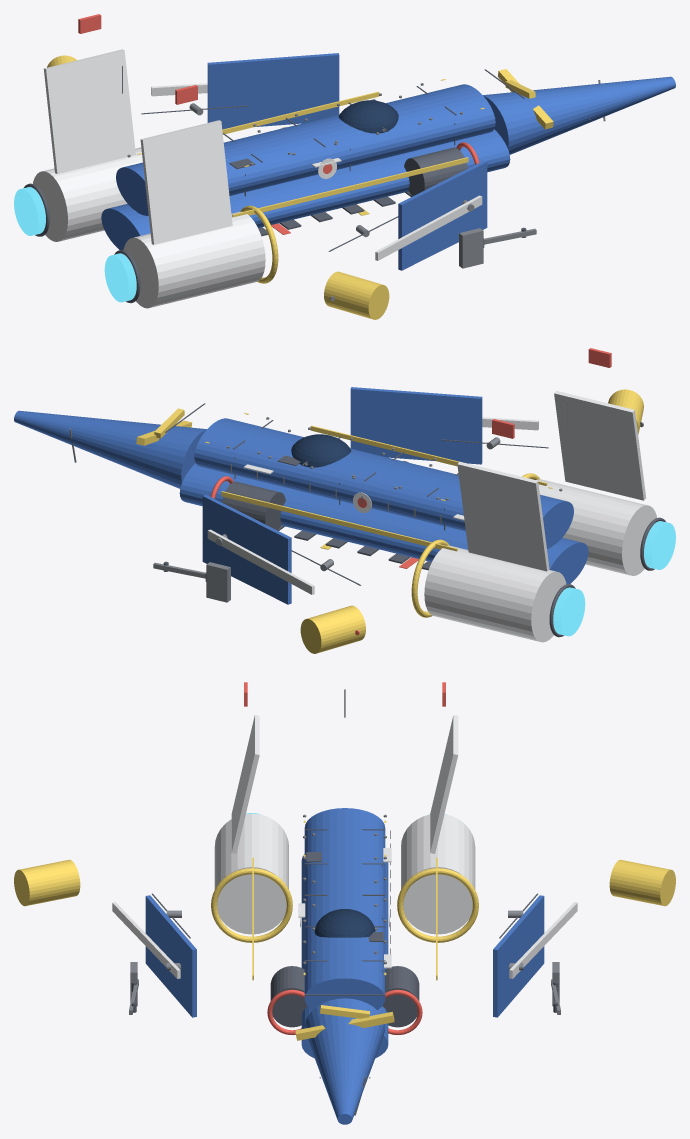
File: starfighter_anime_v4.gltf
The picture shows the model from 3 angles, top to bottom: view 1: azimuth 30°, elevation 25°; view 2: azimuth 150°, elevation 25°; view 3: azimuth 270°, elevation 25°; orthographic projection. The views are drawn at different scales.
Visible parts, largest first — view 1: Cylinder.001, Cube.005, Cube.007, Cylinder, Cylinder.004, Cube.003, Cone, Cube.001, Cylinder.006, Cylinder.002, Cylinder.008, Sphere (+8 smaller); view 2: Cylinder.001, Cylinder.006, Cylinder, Cube.001, Cube.007, Cube.005, Cone, Cylinder.004, Cube.003, Cylinder.003, Cylinder.009, Sphere (+8 smaller); view 3: Cylinder.001, Cylinder.004, Cylinder.006, Cone, Cube.001, Cube.003, Cylinder.002, Cylinder.003, Cylinder.008, Cube.005, Cube.007, Cylinder.009 (+7 smaller).
Part boxes in pixels (<box>): Cylinder.001: <box>116,84,495,215</box>; Cube.005: <box>140,120,232,244</box>; Cube.007: <box>43,49,135,173</box>; Cylinder: <box>101,129,510,250</box>; Cylinder.004: <box>123,211,265,308</box>; Cube.003: <box>207,53,339,129</box>; Cone: <box>483,76,675,154</box>; Cube.001: <box>398,160,487,270</box>; Cylinder.006: <box>33,147,142,241</box>; Cylinder.002: <box>324,271,389,319</box>; Cylinder.008: <box>404,147,467,196</box>; Sphere: <box>338,100,398,133</box>; Cylinder.001: <box>194,418,573,548</box>; Cylinder.006: <box>424,545,566,642</box>; Cylinder: <box>179,463,588,584</box>; Cube.001: <box>350,387,482,464</box>; Cube.007: <box>457,461,549,571</box>; Cube.005: <box>554,391,646,500</box>; Cone: <box>14,410,206,488</box>; Cylinder.004: <box>536,479,656,575</box>; Cube.003: <box>202,494,291,604</box>; Cylinder.003: <box>300,605,365,653</box>; Cylinder.009: <box>222,481,285,530</box>; Sphere: <box>291,434,351,467</box>; Cylinder.001: <box>304,808,385,1010</box>; Cylinder.004: <box>214,813,288,934</box>; Cylinder.006: <box>401,814,475,934</box>; Cone: <box>304,998,385,1124</box>; Cube.001: <box>145,895,196,1017</box>; Cube.003: <box>493,895,544,1017</box>; Cylinder.002: <box>14,859,80,906</box>; Cylinder.003: <box>609,859,675,906</box>; Cylinder.008: <box>270,966,307,1027</box>; Cube.005: <box>231,715,259,853</box>; Cube.007: <box>430,715,458,853</box>; Cylinder.009: <box>382,966,419,1027</box>.
Bounding box in the file's own units: 11.48 × 3.88 × 10.67.
